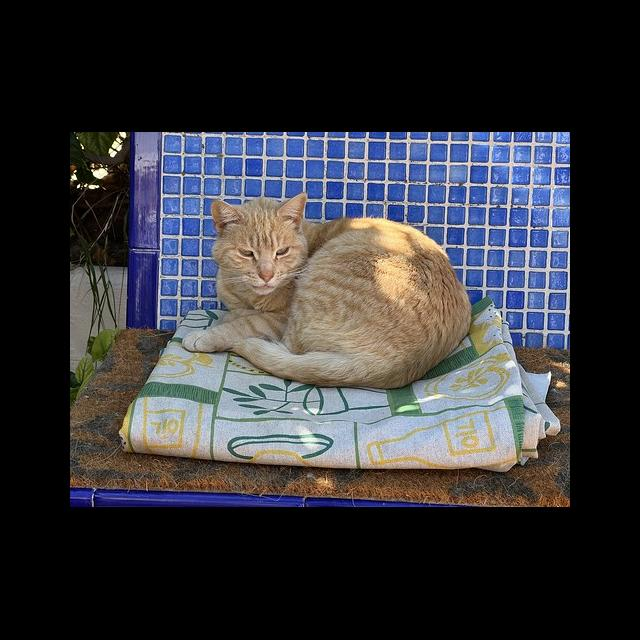animals: (183, 192, 472, 389)
